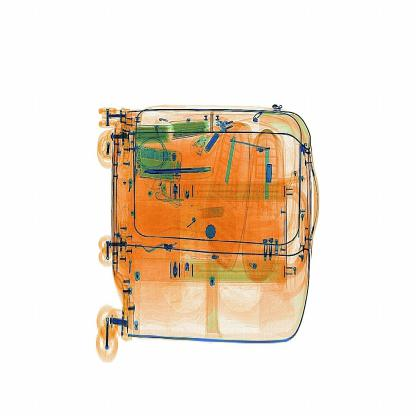pliers: (140, 163, 218, 180)
